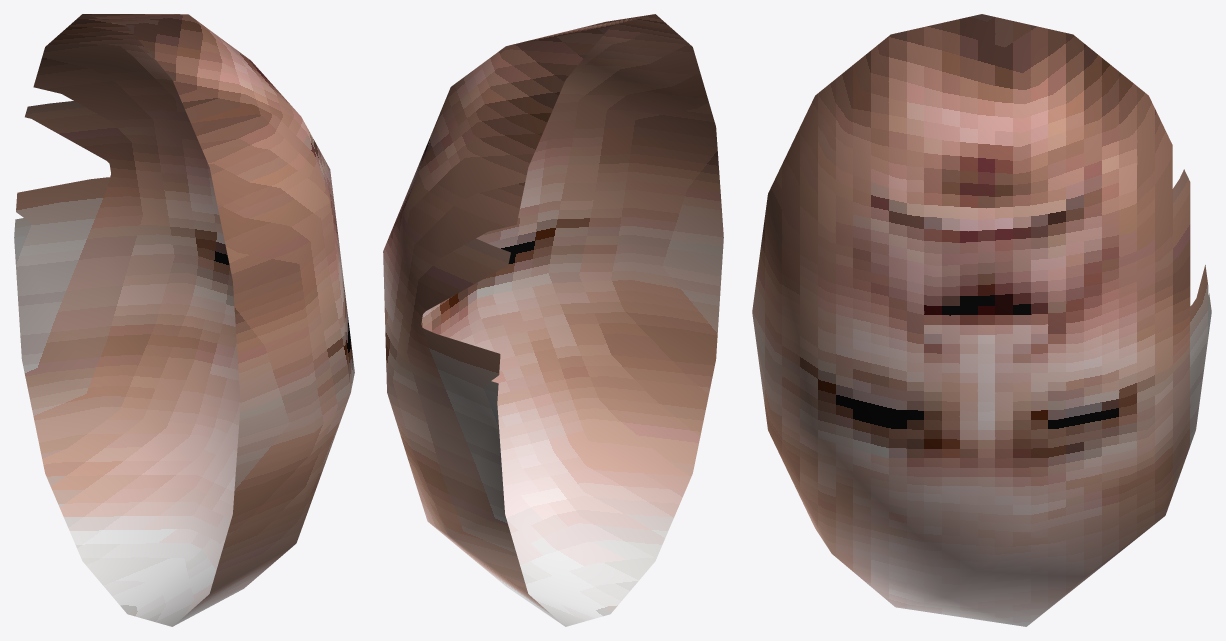
The model's file is BidenMaskLowerPolyFieldModelSO.obj.
3 views of the same model, side by side, from view 1: azimuth 30°, elevation 25°; view 2: azimuth 150°, elevation 25°; view 3: azimuth 270°, elevation 25° (orthographic).
Visible parts, largest first — view 1: JoeBidenFaceGI; view 2: JoeBidenFaceGI; view 3: JoeBidenFaceGI.
Boxes of the visible parts, x1,y1,x2,y2 form: JoeBidenFaceGI: (14,14,354,626); JoeBidenFaceGI: (383,14,723,626); JoeBidenFaceGI: (752,14,1211,626).
Bounding box in the file's own units: 468 × 1437 × 1004.
Materials: 1 (1 with a texture image).
